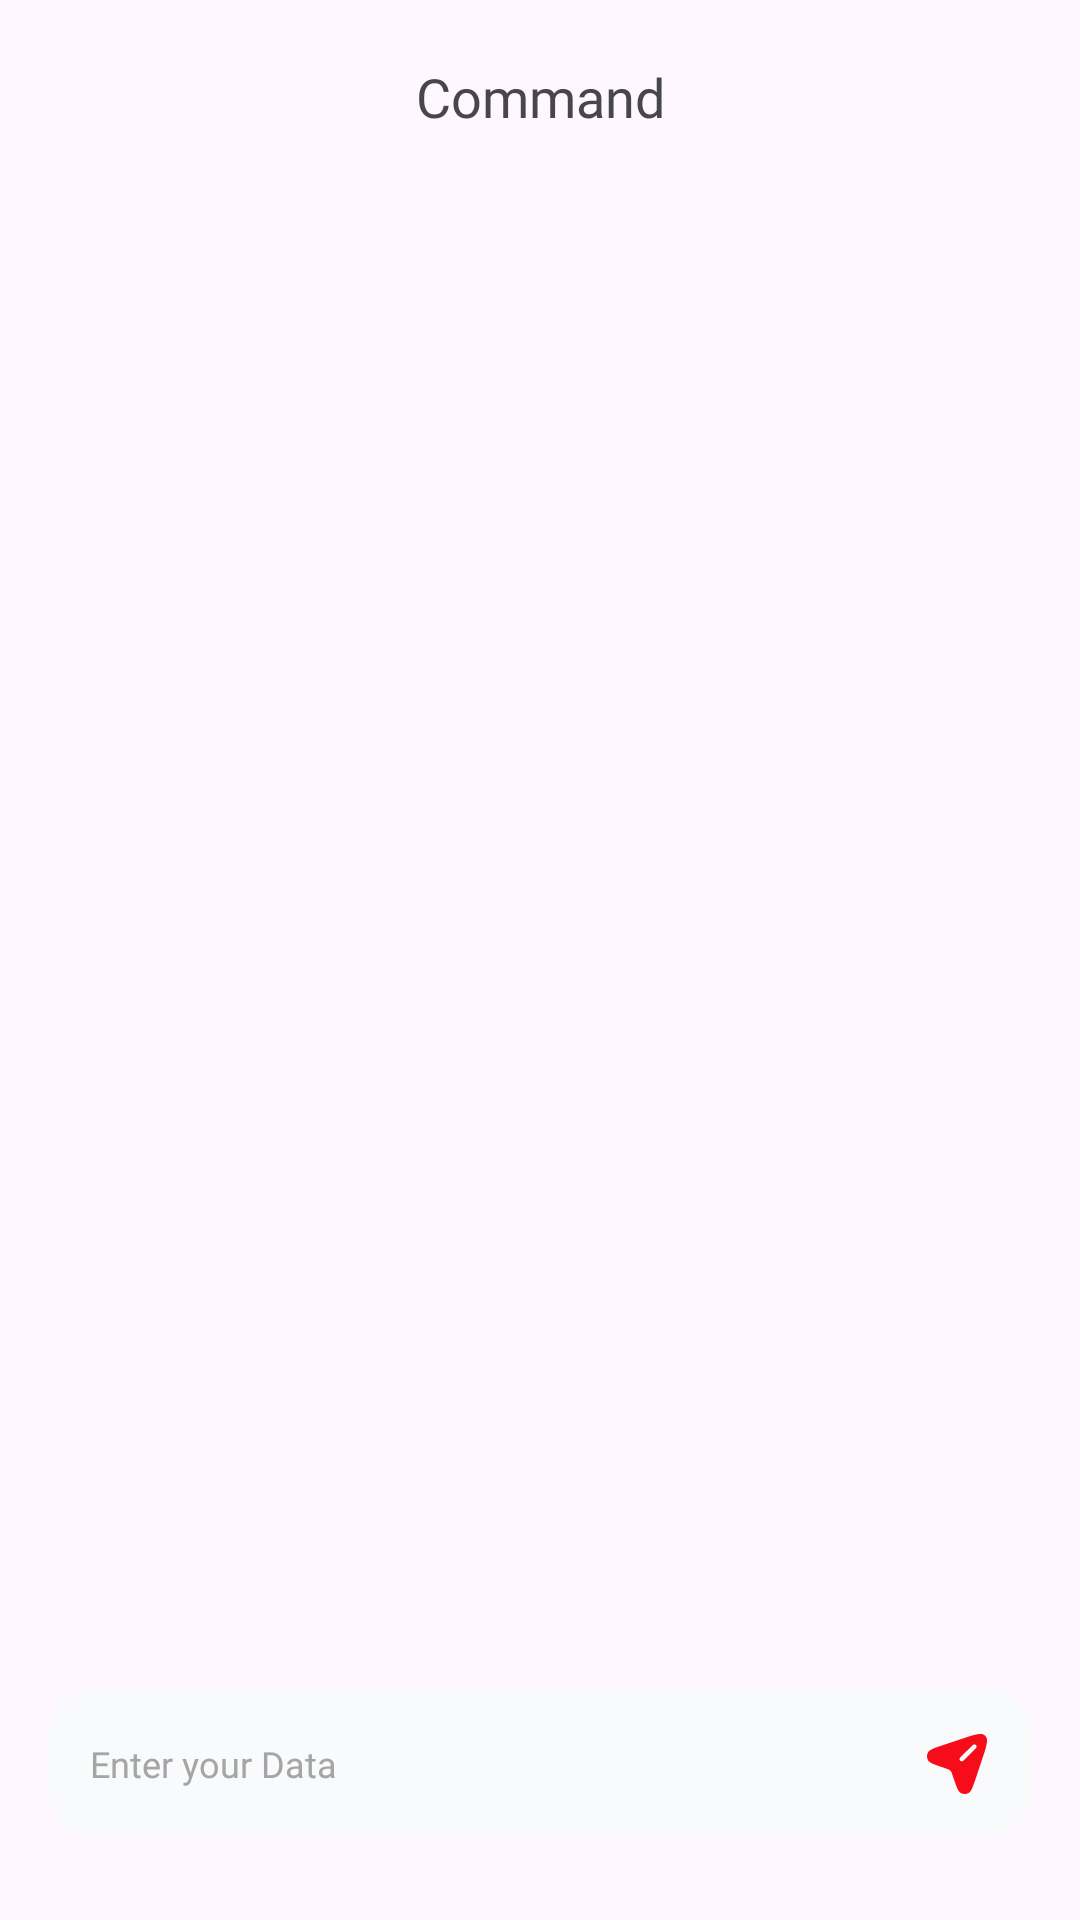

Locate icon controls on the screen. Image size 1080px×1920px, boxes as bbox=[x1, y1, x2, y2].
send: bbox=[927, 1734, 987, 1794]
